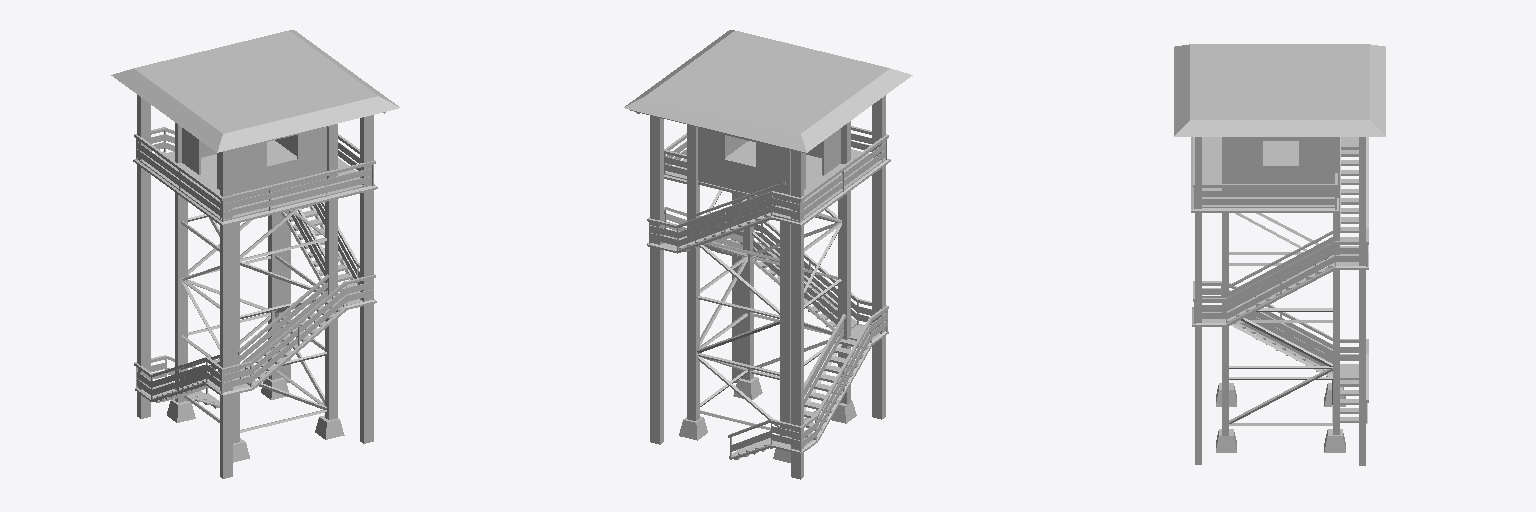
File: watch tower2.obj
The picture shows the model from 3 angles: view 1: azimuth 30°, elevation 25°; view 2: azimuth 150°, elevation 25°; view 3: azimuth 270°, elevation 25°; orthographic projection.
Parts seen in each view (by area): view 1: Plane, Plane.001; view 2: Plane, Plane.001; view 3: Plane, Plane.001.
Boxes of the visible parts, x1,y1,x2,y2 form: Plane: [111, 30, 399, 478]; Plane.001: [154, 140, 363, 219]; Plane: [624, 30, 912, 479]; Plane.001: [667, 141, 884, 208]; Plane: [1174, 44, 1385, 465]; Plane.001: [1202, 137, 1334, 206].
Size of the model in its own units: 4.41 by 7.97 by 4.41.